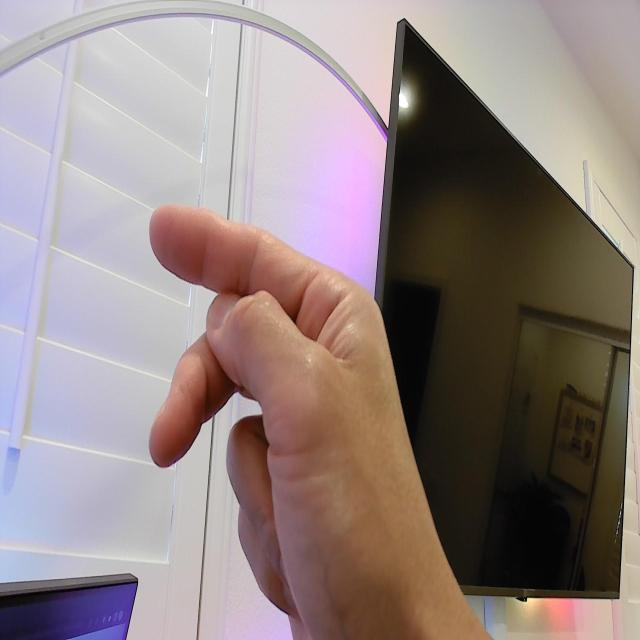P: (145, 199, 450, 640)
